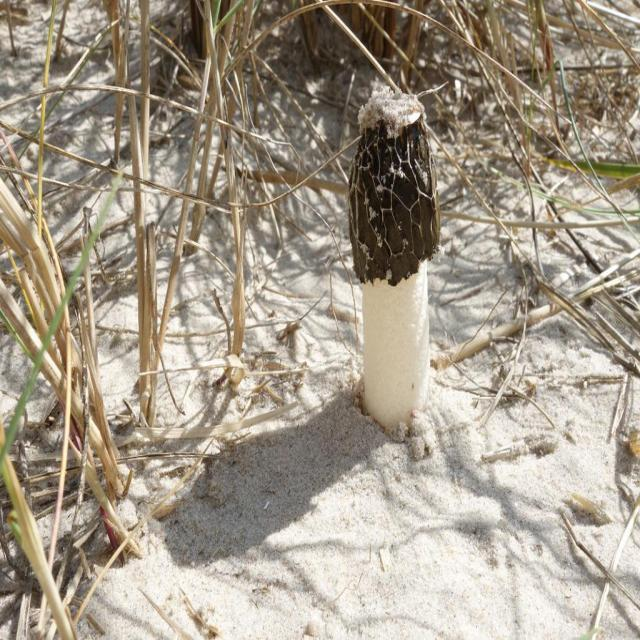Dictyophora indusiate: (348, 95, 439, 435)
